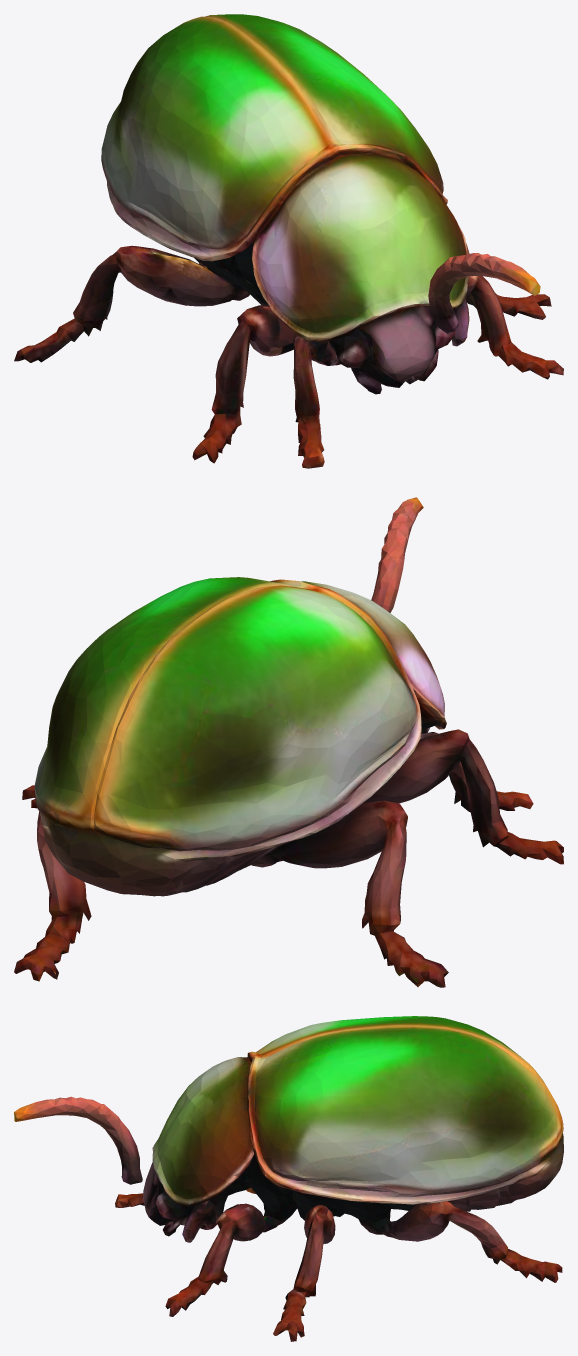
File: bio_borer.glb
3 renders of one model, top to bottom at view 1: azimuth 30°, elevation 25°; view 2: azimuth 150°, elevation 25°; view 3: azimuth 270°, elevation 25°, orthographic. The views are drawn at different scales.
Visible parts, largest first — view 1: tmpq2613oej.ply; view 2: tmpq2613oej.ply; view 3: tmpq2613oej.ply.
Boxes of the visible parts, x1=… form: tmpq2613oej.ply: x1=14, y1=14, x2=563, y2=468; tmpq2613oej.ply: x1=14, y1=497, x2=563, y2=987; tmpq2613oej.ply: x1=14, y1=1016, x2=563, y2=1341.
Size of the model in its own units: 0.3936 by 0.2278 by 0.5.
1 material, 1 textured.
